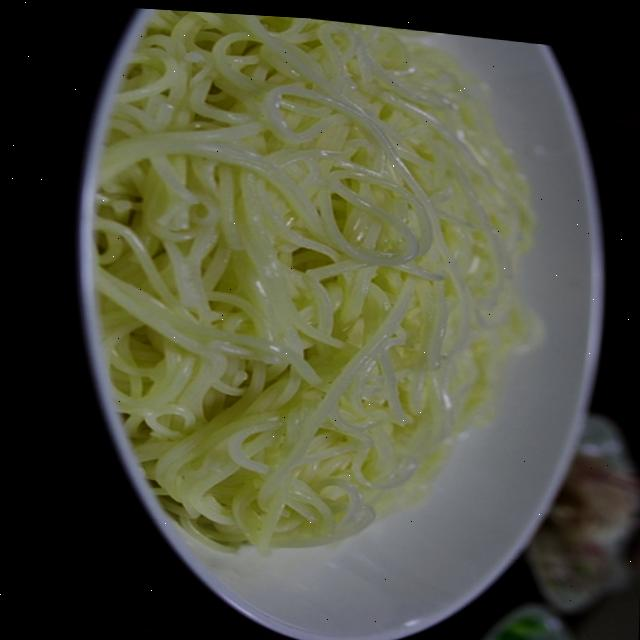面条主食: (54, 3, 626, 640)
